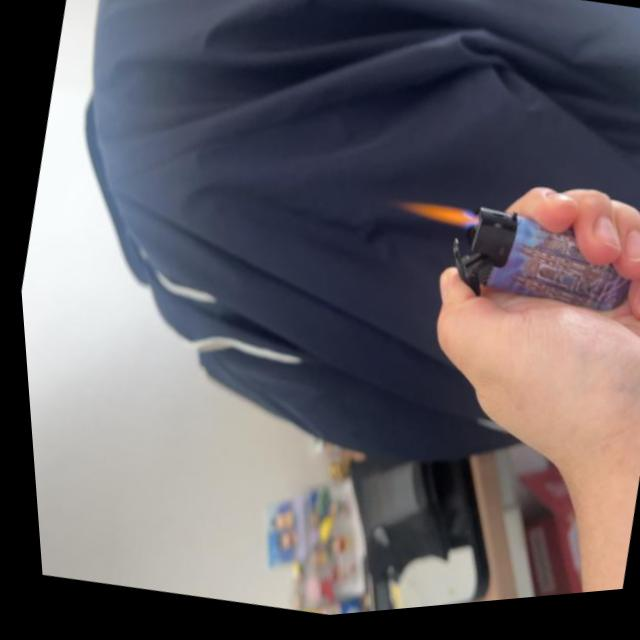Fire: (395, 198, 476, 246)
